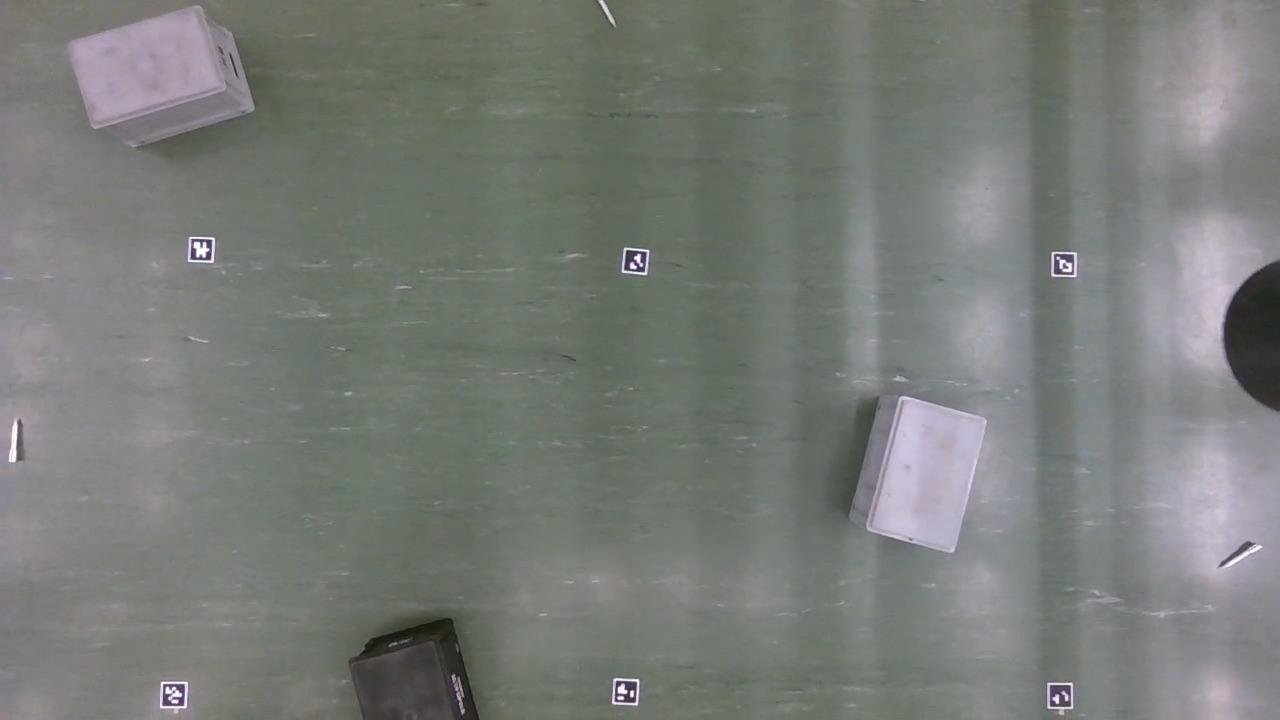probes: (1218, 540, 1264, 568), (591, 0, 617, 29), (8, 417, 21, 463)
rako: (64, 4, 265, 148), (848, 392, 992, 558), (347, 618, 485, 720)
